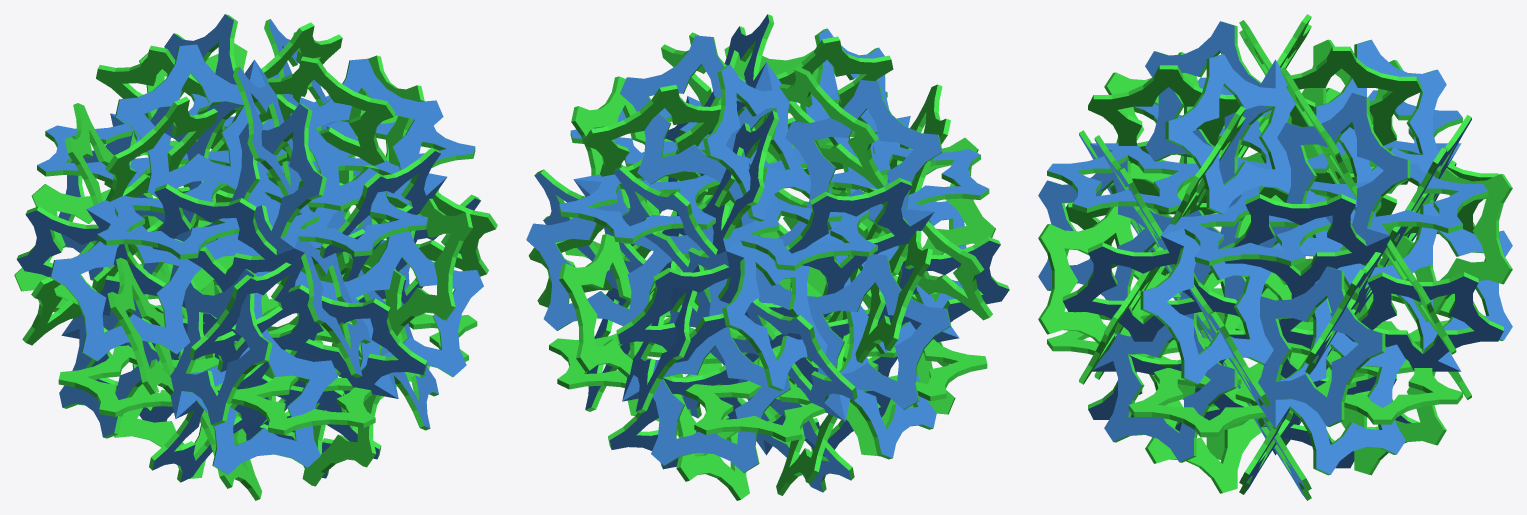
The model's file is StarDodecahedronPolyknotAugmented.glb.
3 views of the same model, side by side, from view 1: azimuth 30°, elevation 25°; view 2: azimuth 150°, elevation 25°; view 3: azimuth 270°, elevation 25° (orthographic).
Parts seen in each view (by area): view 1: ESCHER_3D_2Augmented_Penta_Prism; view 2: ESCHER_3D_2Augmented_Penta_Prism; view 3: ESCHER_3D_2Augmented_Penta_Prism.
Part boxes in pixels (bbox=[...]): ESCHER_3D_2Augmented_Penta_Prism: bbox=[14, 14, 497, 500]; ESCHER_3D_2Augmented_Penta_Prism: bbox=[526, 14, 1009, 500]; ESCHER_3D_2Augmented_Penta_Prism: bbox=[1038, 14, 1512, 500].
Bounding box in the file's own units: 155 × 150 × 150.
